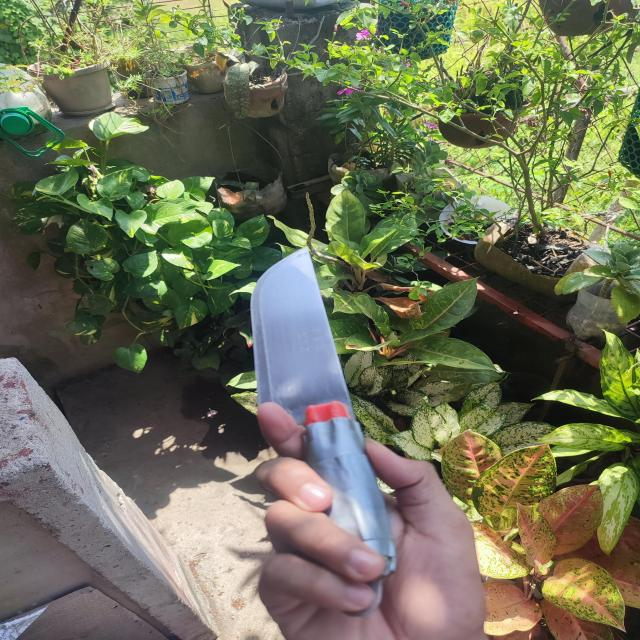knife: (250, 246, 393, 577)
